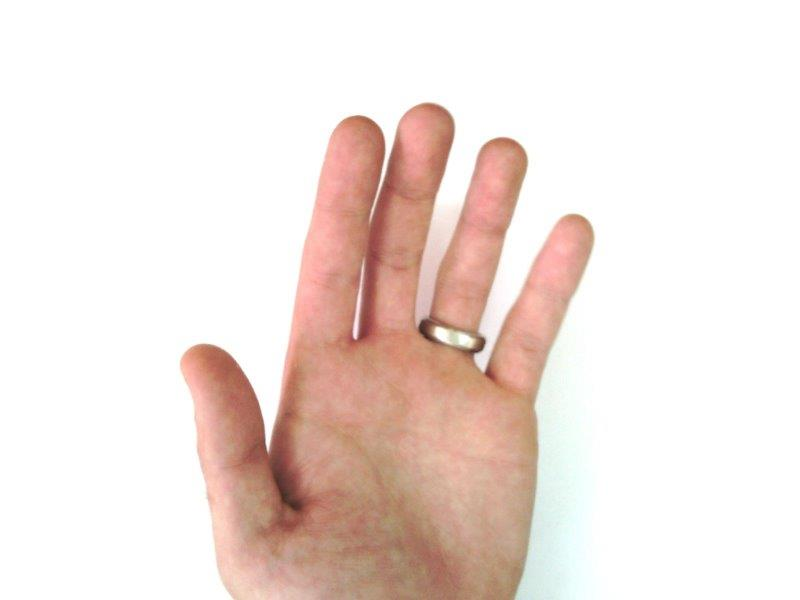hand: (181, 102, 595, 599)
